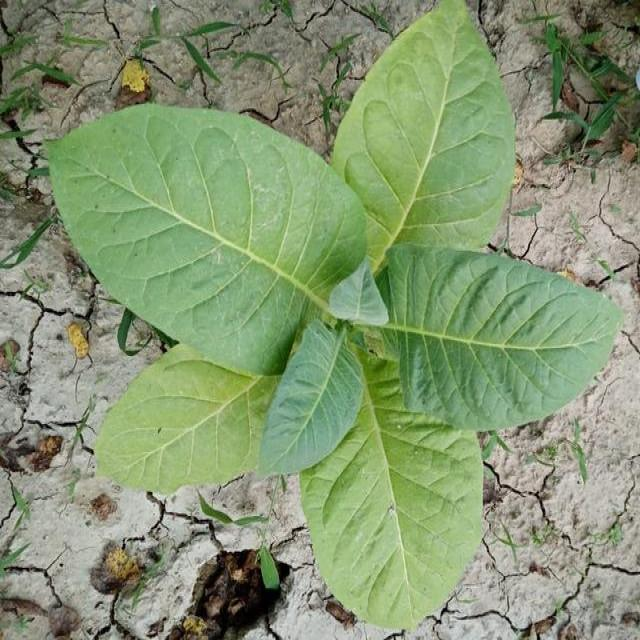crop: (42, 24, 620, 628)
